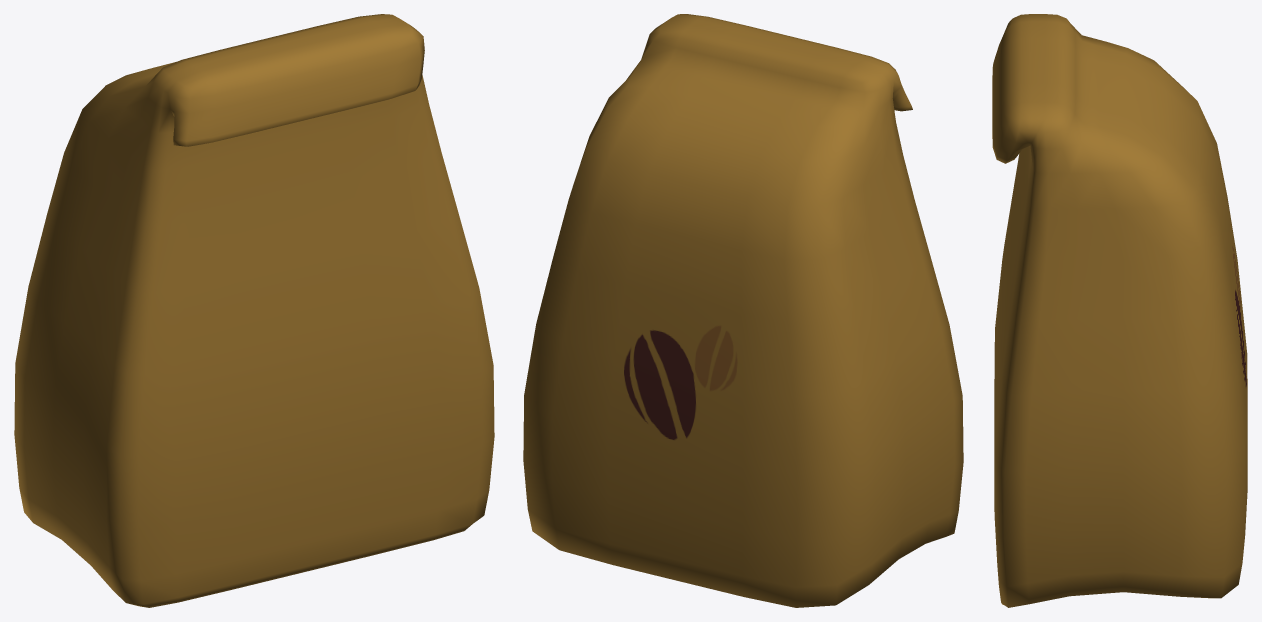
Rendered from CoffeeBag1.fbx.
3 views of the same model, side by side, from view 1: azimuth 30°, elevation 25°; view 2: azimuth 150°, elevation 25°; view 3: azimuth 270°, elevation 25° (orthographic). The views are drawn at different scales.
Visible parts, largest first — view 1: Cube; view 2: Cube; view 3: Cube.
Part boxes in pixels (x1,y1,x2,y2): Cube: (14,14,494,607); Cube: (523,14,963,607); Cube: (992,14,1247,607).
Bounding box in the file's own units: 330 × 426 × 209.
